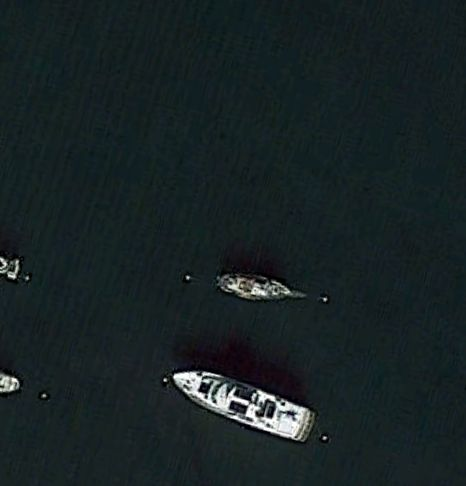boat: (169, 370, 317, 443), (214, 269, 301, 305)
